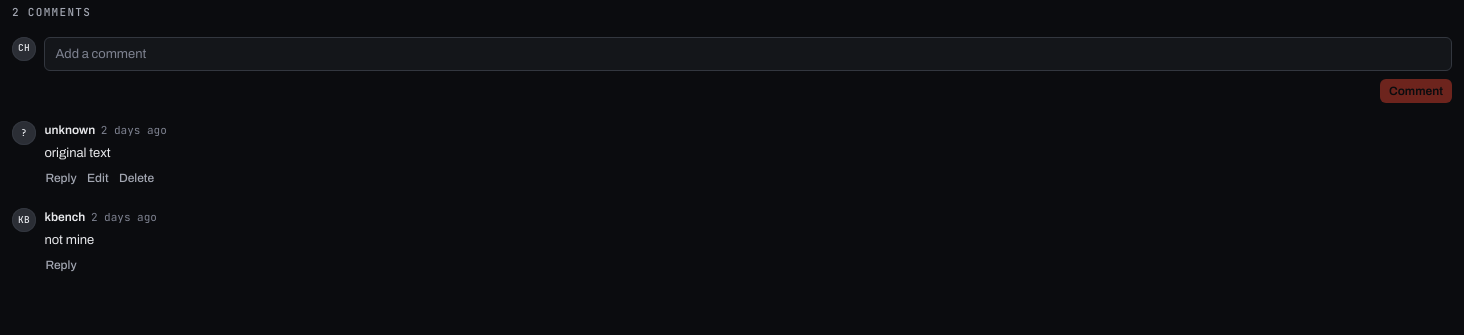
Test: CommentThread › edits own comment inline (own-only controls) and shows edited after refetch
The width and height of the screenshot is (1464, 335).
Expected: the element with class "comment-actions" does not show "Edit"
Click the button "Edit". click: point(98, 178)
box: [86,166,110,190]
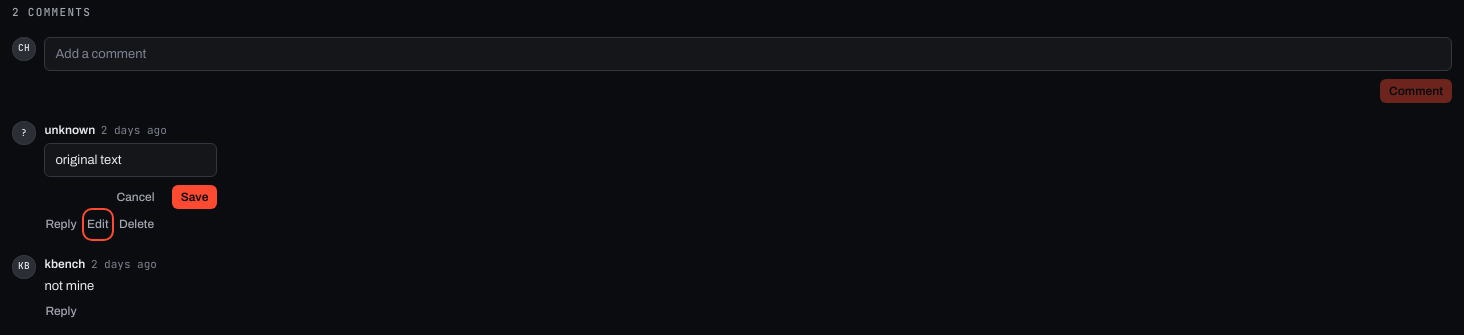
Expected: the field named "Edit comment" holds "original text"
Replace the text in the field named "Edit comment" with "edited text". click: point(131, 160)
box: [44,143,217,177]
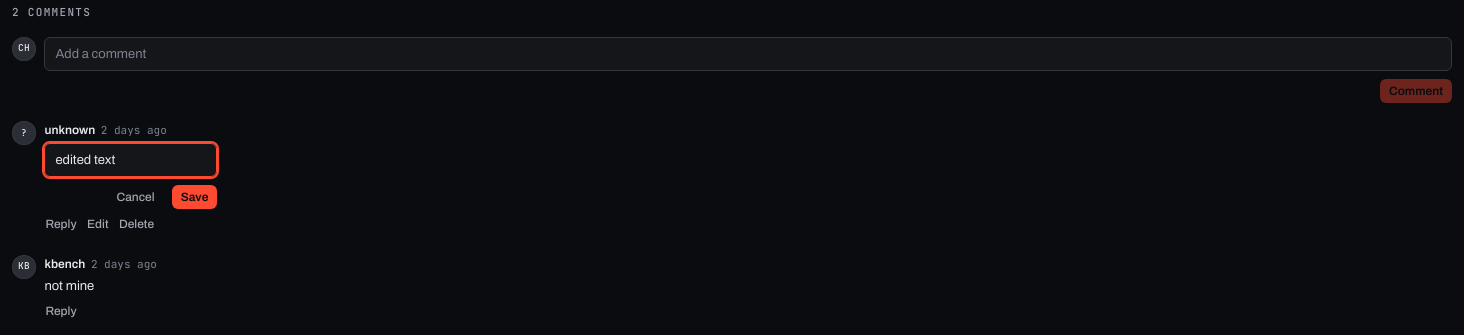
Click the button "Save". click: point(194, 197)
box: [172,185,217,209]
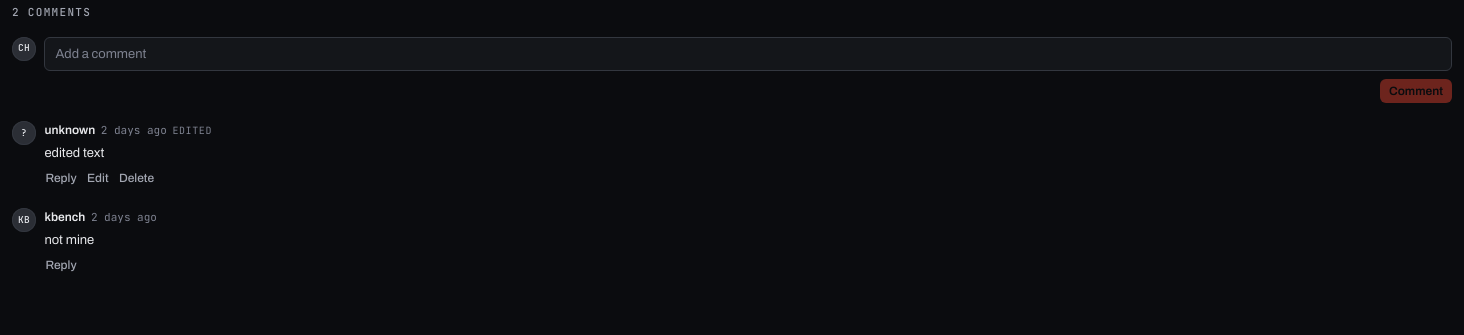
Expected: the text "original text" shows "edited", [172,124,212,137]
